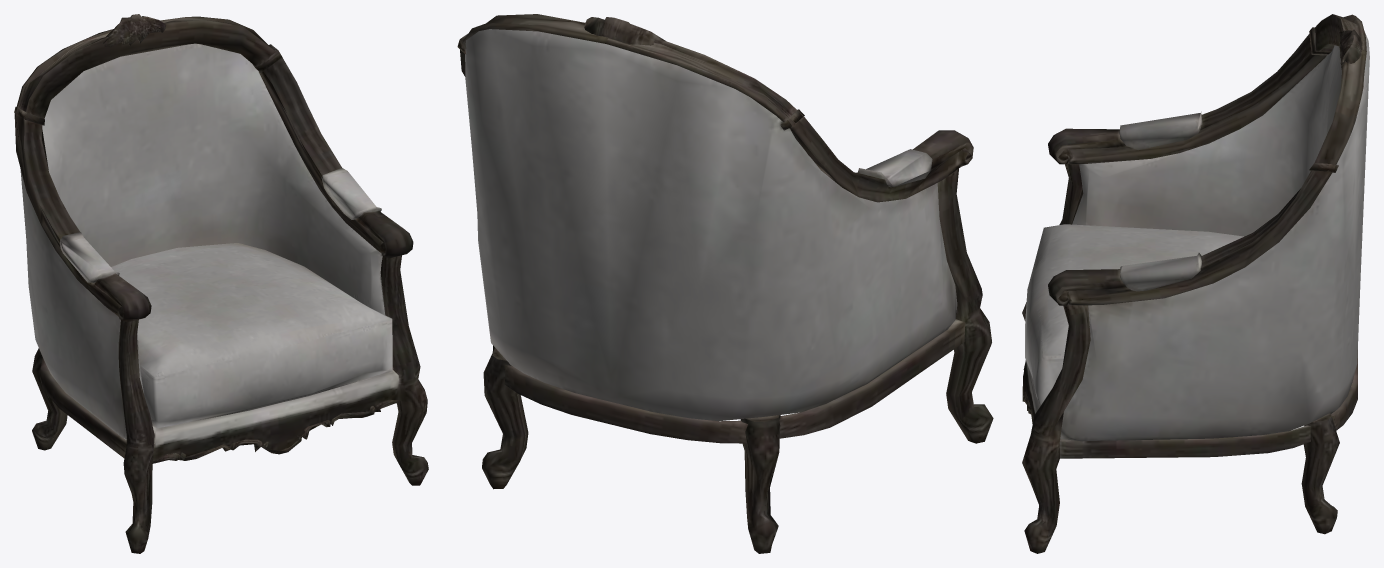
File: hp_room_cc0_armchair.glb
3 views of the same model, side by side, from view 1: azimuth 30°, elevation 25°; view 2: azimuth 150°, elevation 25°; view 3: azimuth 270°, elevation 25° (orthographic). The views are drawn at different scales.
Parts seen in each view (by area): view 1: ArmChair_01; view 2: ArmChair_01; view 3: ArmChair_01.
Part boxes in pixels (x1,y1,x2,y2): ArmChair_01: (14, 14, 428, 553); ArmChair_01: (457, 14, 993, 553); ArmChair_01: (1022, 14, 1369, 553).
Bounding box in the file's own units: 0.8483 × 1.06 × 0.7618.
Materials: 1 (1 with a texture image).
